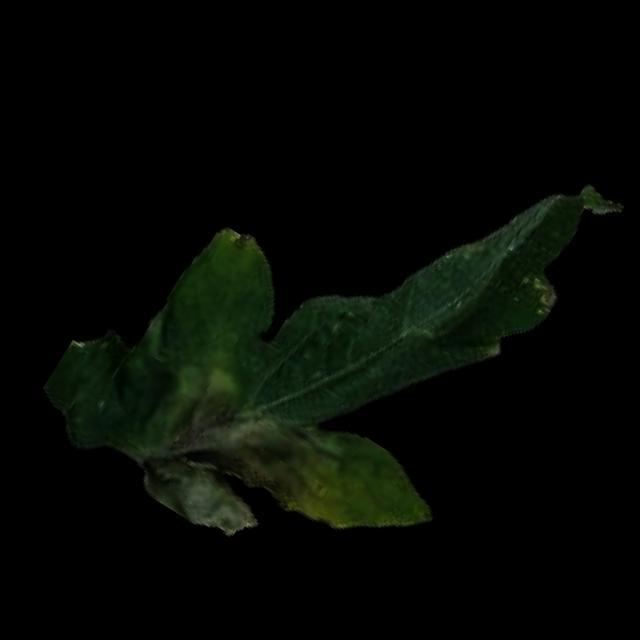Tomato late blight leaf: (23, 0, 636, 636)
